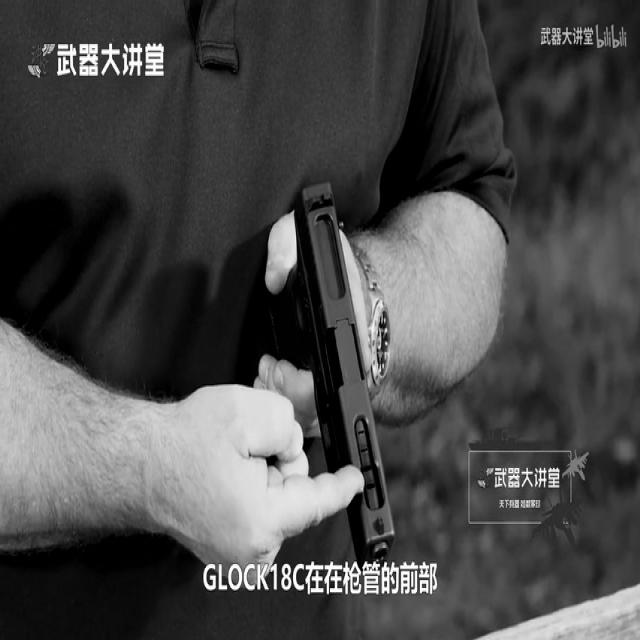Hand-Gun: (225, 96, 463, 636)
